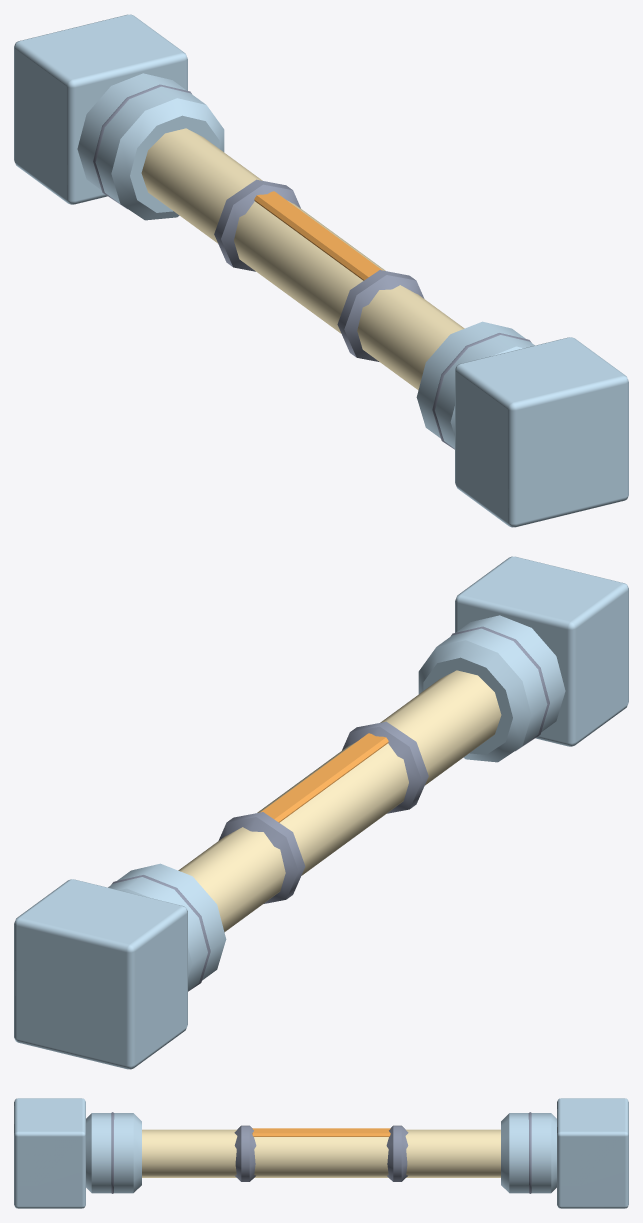
Rendered from R4C_ROD_STANDARD.glb.
3 renders of one model, top to bottom at view 1: azimuth 30°, elevation 25°; view 2: azimuth 150°, elevation 25°; view 3: azimuth 270°, elevation 25°, orthographic. The views are drawn at different scales.
Parts seen in each view (by area): view 1: R4C_ROD_STANDARD; view 2: R4C_ROD_STANDARD; view 3: R4C_ROD_STANDARD.
Boxes of the visible parts, <box> form: R4C_ROD_STANDARD: <box>14,14,628,527</box>; R4C_ROD_STANDARD: <box>14,556,628,1069</box>; R4C_ROD_STANDARD: <box>14,1098,628,1208</box>.
Size of the model in its own units: 0.226 by 0.224 by 1.62.
